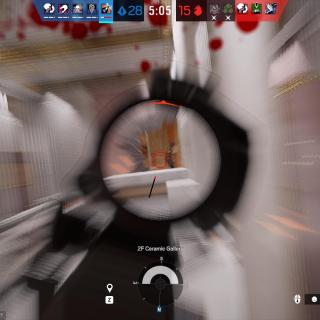Character: (164, 140, 179, 168)
Head: (172, 141, 176, 146)
